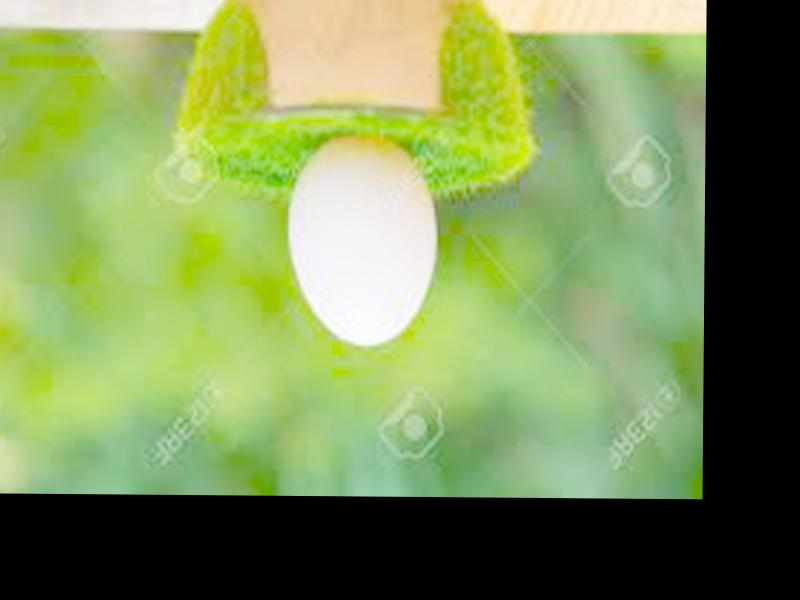Eggs: (284, 134, 434, 342)
